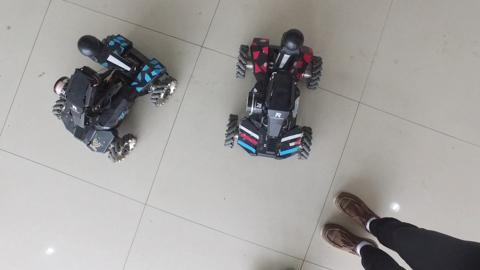chariot: (50, 27, 180, 161), (222, 26, 322, 164)
